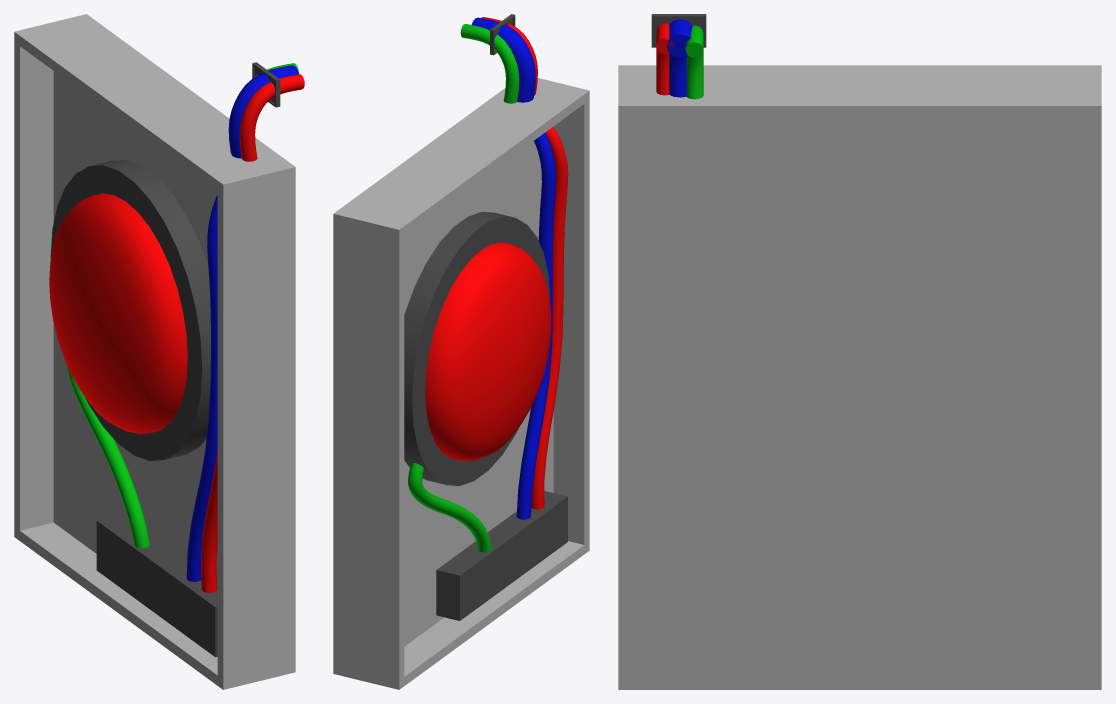
Rendered from DUVAR-TETIKLEME-BUTONU.fbx.
The picture shows the model from 3 angles, left to right: view 1: azimuth 30°, elevation 25°; view 2: azimuth 150°, elevation 25°; view 3: azimuth 270°, elevation 25°; orthographic projection. The views are drawn at different scales.
Visible parts, largest first — view 1: Box021, Sphere001, Cylinder009, Box023, Line022, Line024, Line019, Line023, Line020, Box022; view 2: Box021, Sphere001, Cylinder009, Box023, Line023, Line022, Line024, Line020, Line021; view 3: Box021, Line020, Line021, Line019, Box022.
Boxes of the visible parts, box(x1,y1,x2,y2) form: Box021: box(14, 14, 295, 689); Sphere001: box(49, 193, 187, 433); Cylinder009: box(50, 159, 210, 460); Box023: box(96, 514, 217, 657); Line022: box(186, 195, 217, 581); Line024: box(67, 366, 149, 548); Line019: box(239, 74, 304, 161); Line023: box(201, 448, 217, 592); Line020: box(228, 65, 299, 158); Box022: box(252, 62, 280, 107); Box021: box(333, 78, 589, 689); Sphere001: box(425, 242, 551, 461); Cylinder009: box(404, 212, 550, 485); Box023: box(436, 491, 567, 620); Line023: box(531, 127, 568, 509); Line022: box(516, 133, 555, 519); Line024: box(408, 463, 491, 552); Line020: box(471, 17, 535, 102); Line021: box(460, 24, 519, 103); Box021: box(618, 65, 1101, 689); Line020: box(666, 19, 692, 97); Line021: box(685, 25, 703, 99); Line019: box(656, 23, 673, 95); Box022: box(651, 14, 706, 47).
Bounding box in the file's own units: 5.63 × 23.06 × 15.
